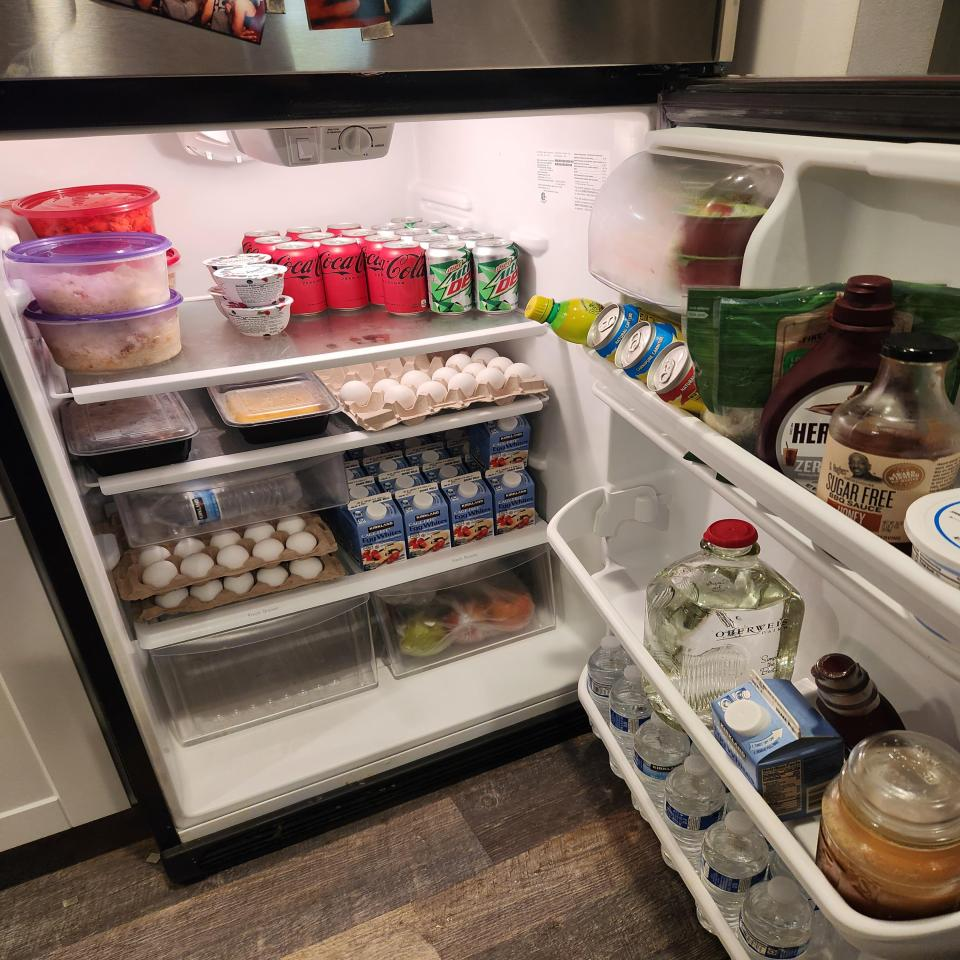Huevos: (115, 513, 346, 621), (314, 347, 548, 433)
